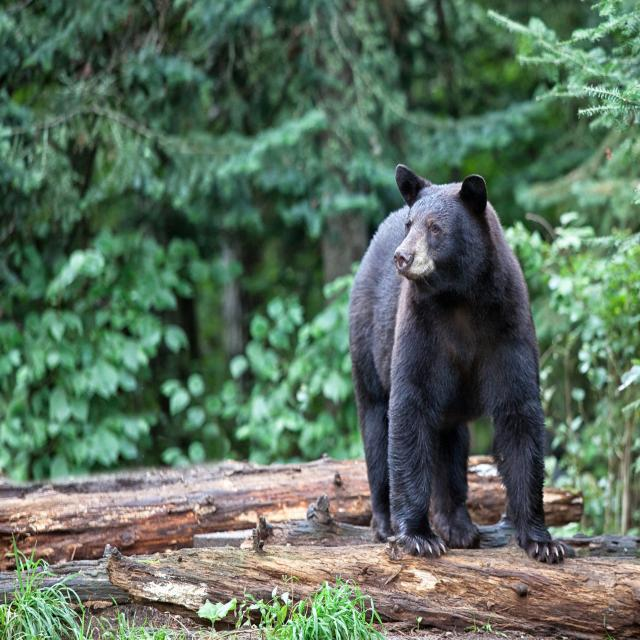bear: (350, 165, 566, 563)
